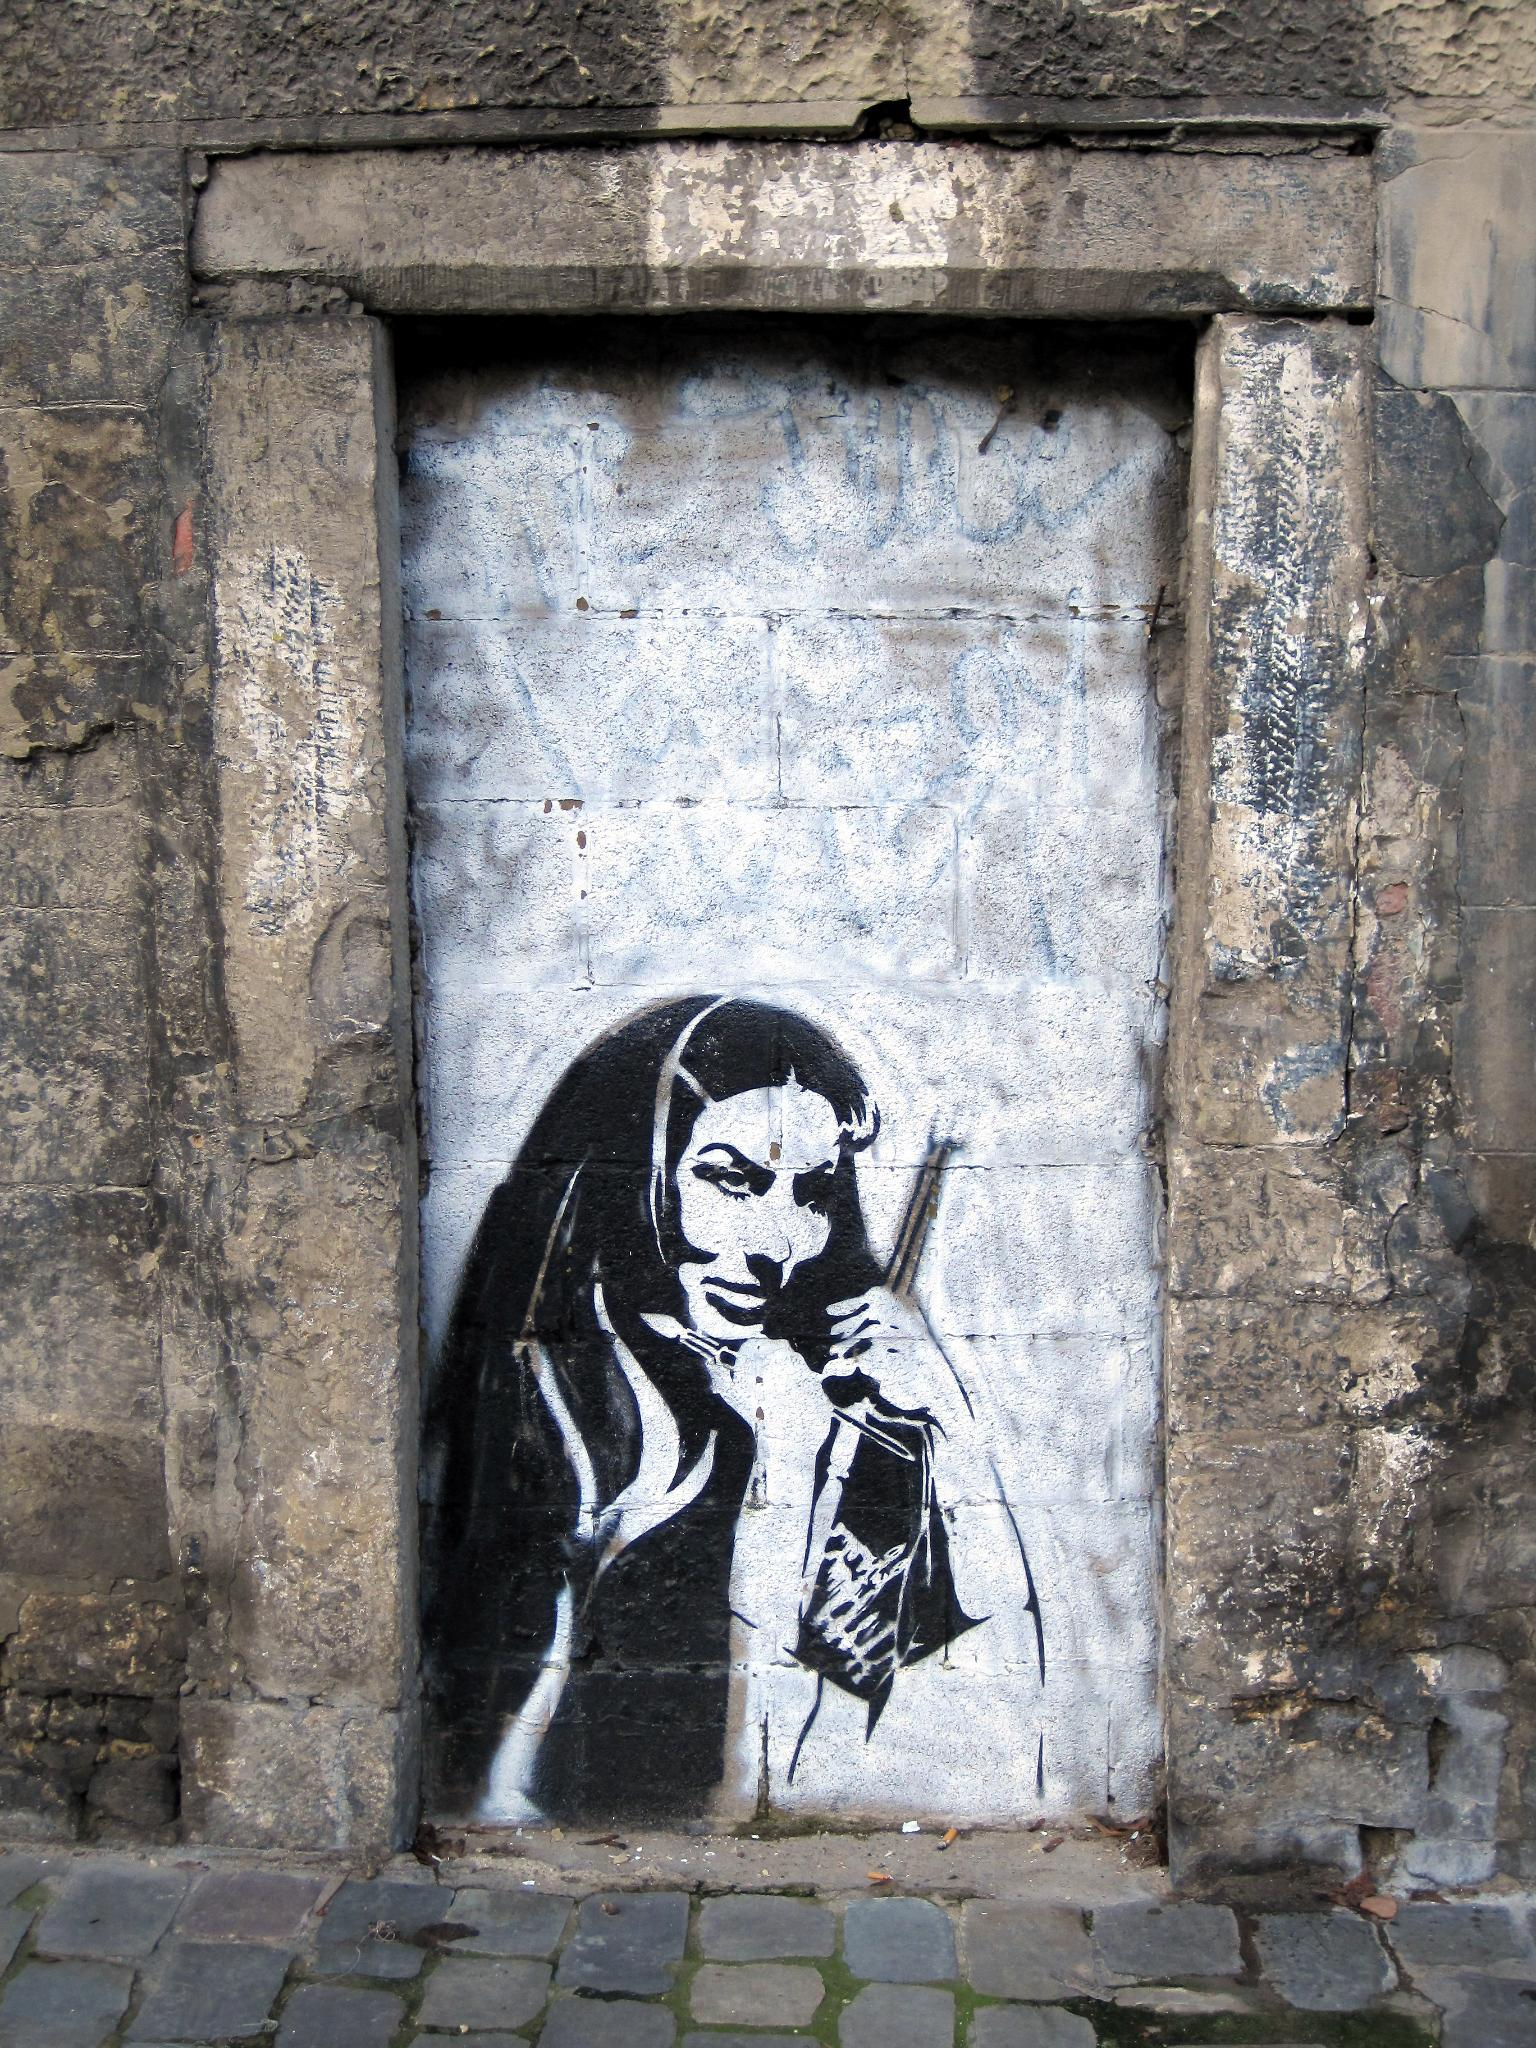graffiti: (436, 1013, 1047, 1809)
